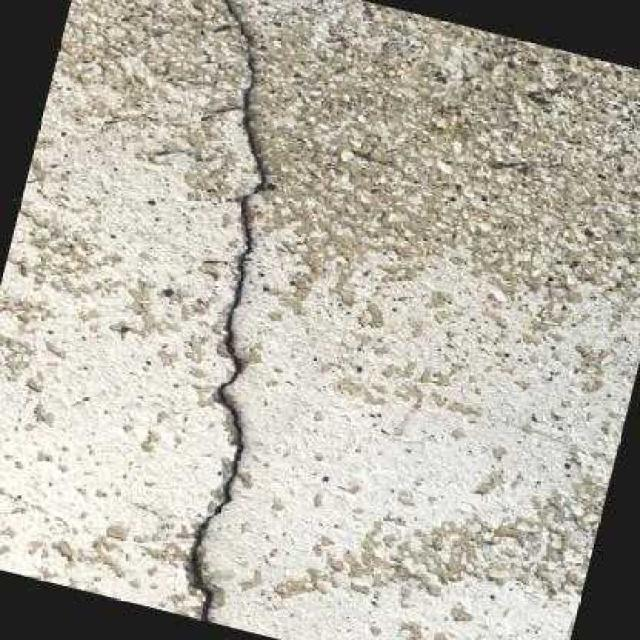D00: (187, 0, 268, 622)
